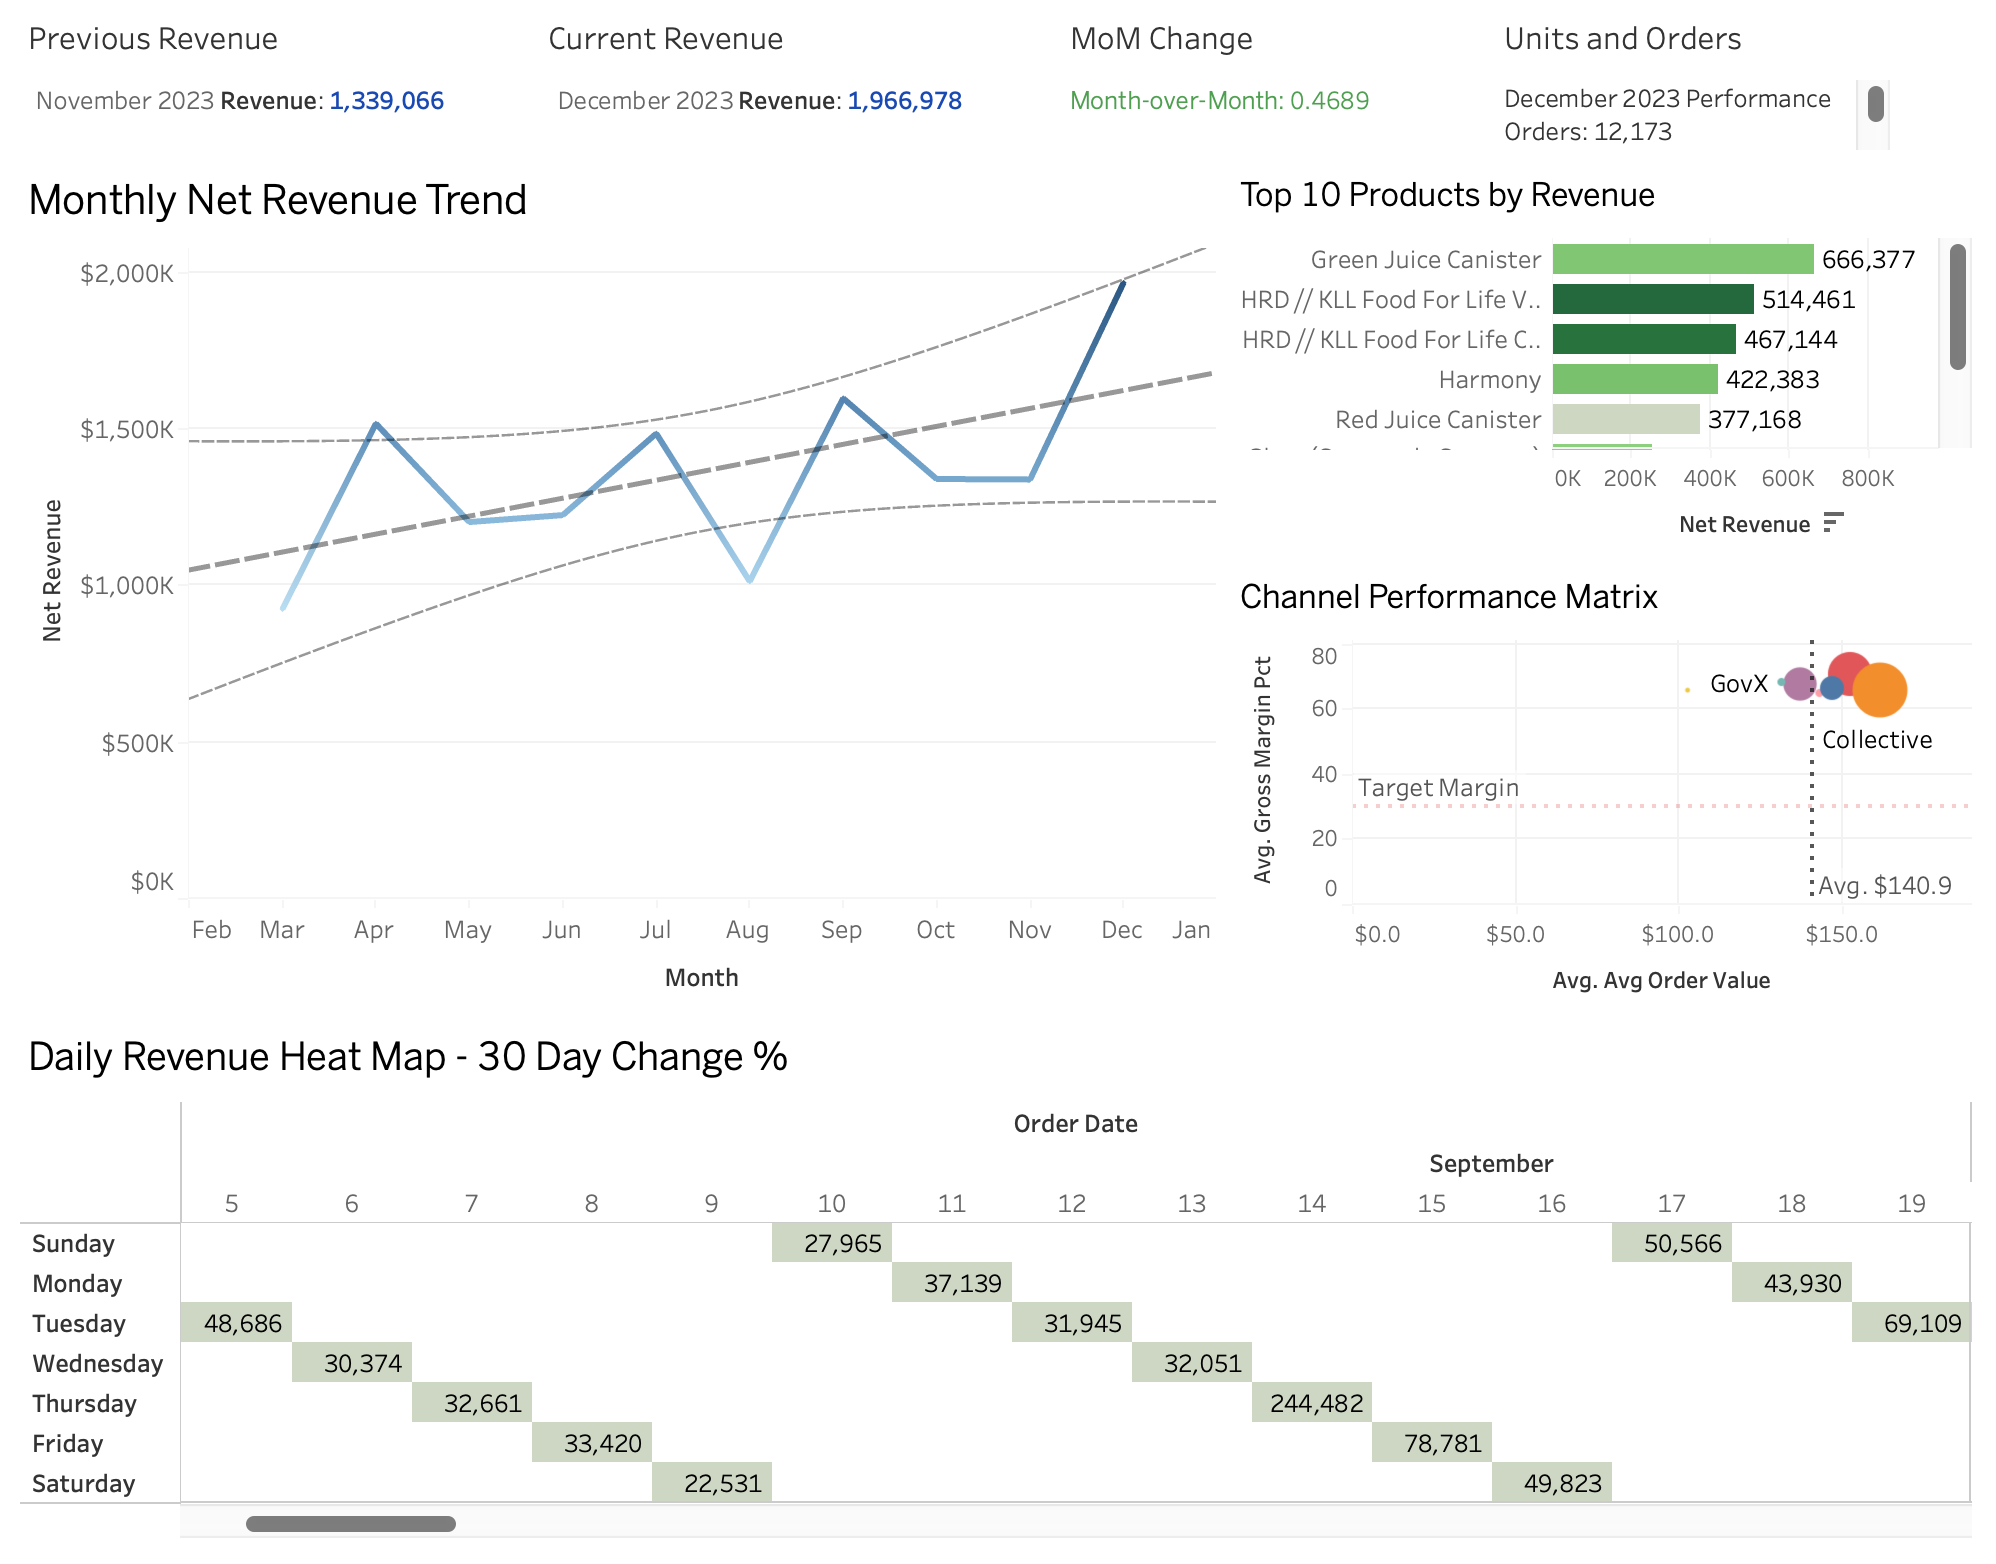

Layout of this report page (visuals, bound fields, positions):
{"tool":"tableau","page":{"name":"IBP Executive Summary Dashboard","canvas":[1000,800],"ordinal":0},"visuals":[{"type":"worksheet","title":"Previous Revenue","mark":"Text","box":[8,8,260.5,79]},{"type":"worksheet","title":"Current Revenue","mark":"Text","box":[268.5,8,260.5,64]},{"type":"worksheet","title":"MoM Change","mark":"Automatic","box":[529,8,217,79]},{"type":"worksheet","title":"Units and Orders","mark":"Automatic","box":[746,8,246,79]},{"type":"worksheet","title":"Monthly Revenue Trend","mark":"Line","rows":["net_revenue"],"cols":["month"],"box":[8,87,606,429]},{"type":"worksheet","title":"Top 10 Products","mark":"Automatic","rows":["product_name"],"cols":["net_revenue"],"box":[614,87,378,201]},{"type":"worksheet","title":"Channel Performance Matrix","mark":"Circle","rows":["gross_margin_pct"],"cols":["avg_order_value"],"box":[614,288,378,228]},{"type":"worksheet","title":"Daily Rev Heat Map","mark":"Square","rows":["order_date"],"cols":["order_date","order_date"],"box":[8,516,984,276]}]}

Visuals, with their boxes in screenshot pixels (x1, y1, x2, y2), scaled from the page's 1000x800 canvas onto the 1996x1564 screenshot:
"Previous Revenue" worksheet (Text marks): {"x1": 16, "y1": 16, "x2": 536, "y2": 170}
"Current Revenue" worksheet (Text marks): {"x1": 536, "y1": 16, "x2": 1056, "y2": 141}
"MoM Change" worksheet: {"x1": 1056, "y1": 16, "x2": 1489, "y2": 170}
"Units and Orders" worksheet: {"x1": 1489, "y1": 16, "x2": 1980, "y2": 170}
"Monthly Revenue Trend" worksheet (Line marks): {"x1": 16, "y1": 170, "x2": 1226, "y2": 1009}
"Top 10 Products" worksheet: {"x1": 1226, "y1": 170, "x2": 1980, "y2": 563}
"Channel Performance Matrix" worksheet (Circle marks): {"x1": 1226, "y1": 563, "x2": 1980, "y2": 1009}
"Daily Rev Heat Map" worksheet (Square marks): {"x1": 16, "y1": 1009, "x2": 1980, "y2": 1548}
